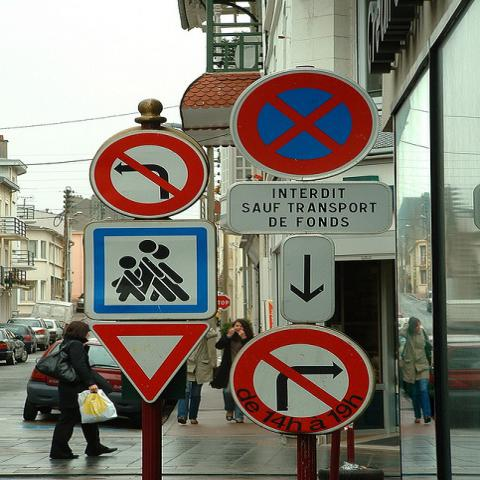car: (23, 339, 145, 430), (446, 333, 479, 428), (7, 317, 52, 350), (0, 322, 38, 353), (1, 329, 29, 365), (45, 318, 64, 342)
